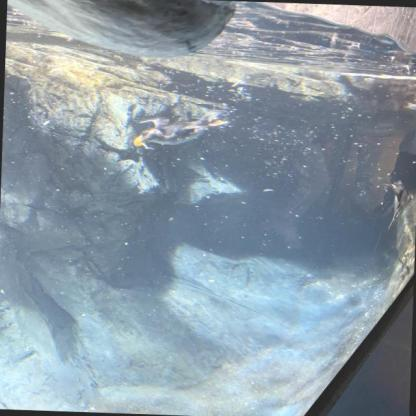puffin: (125, 106, 225, 156)
